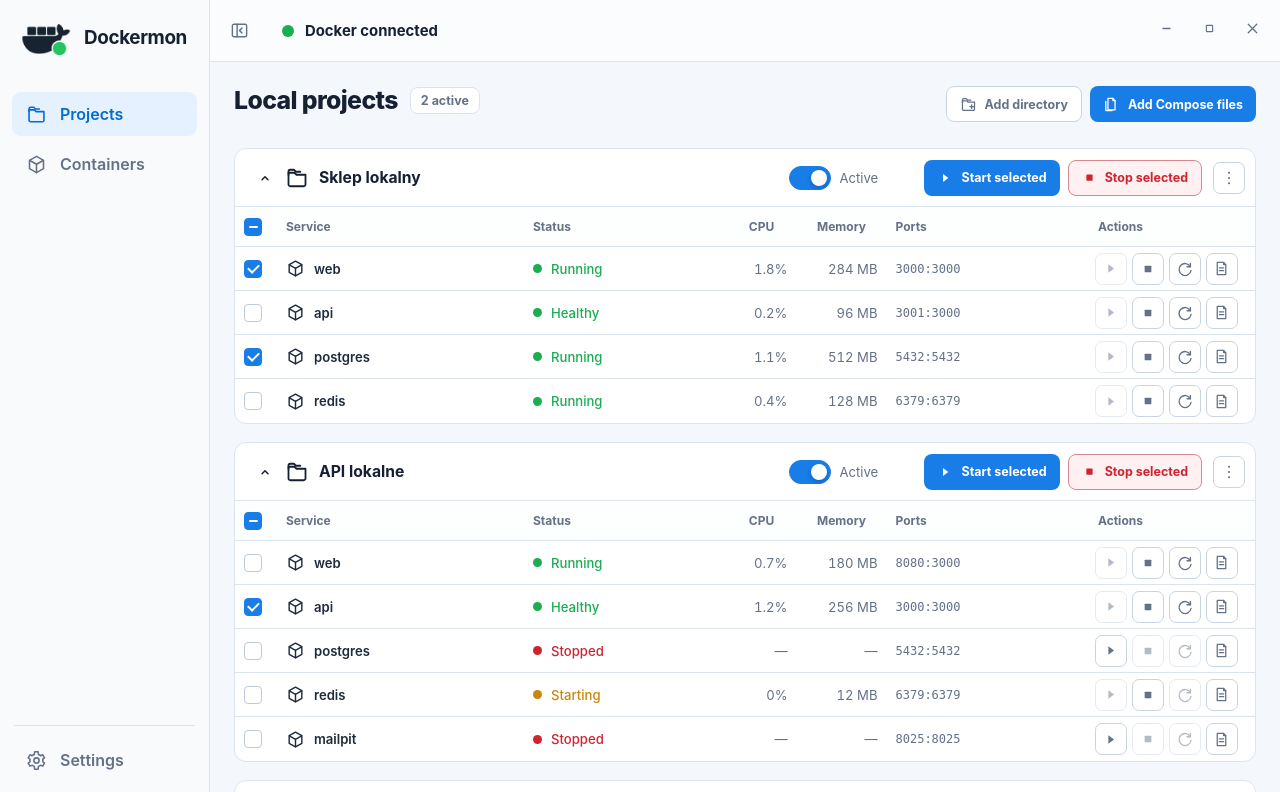
Test: App › keeps lifecycle actions available in other projects while one project is busy
Step 1. Click the 1st button "Stop selected" → {"x": 1135, "y": 178}, box left=1068, top=160, right=1202, bottom=196
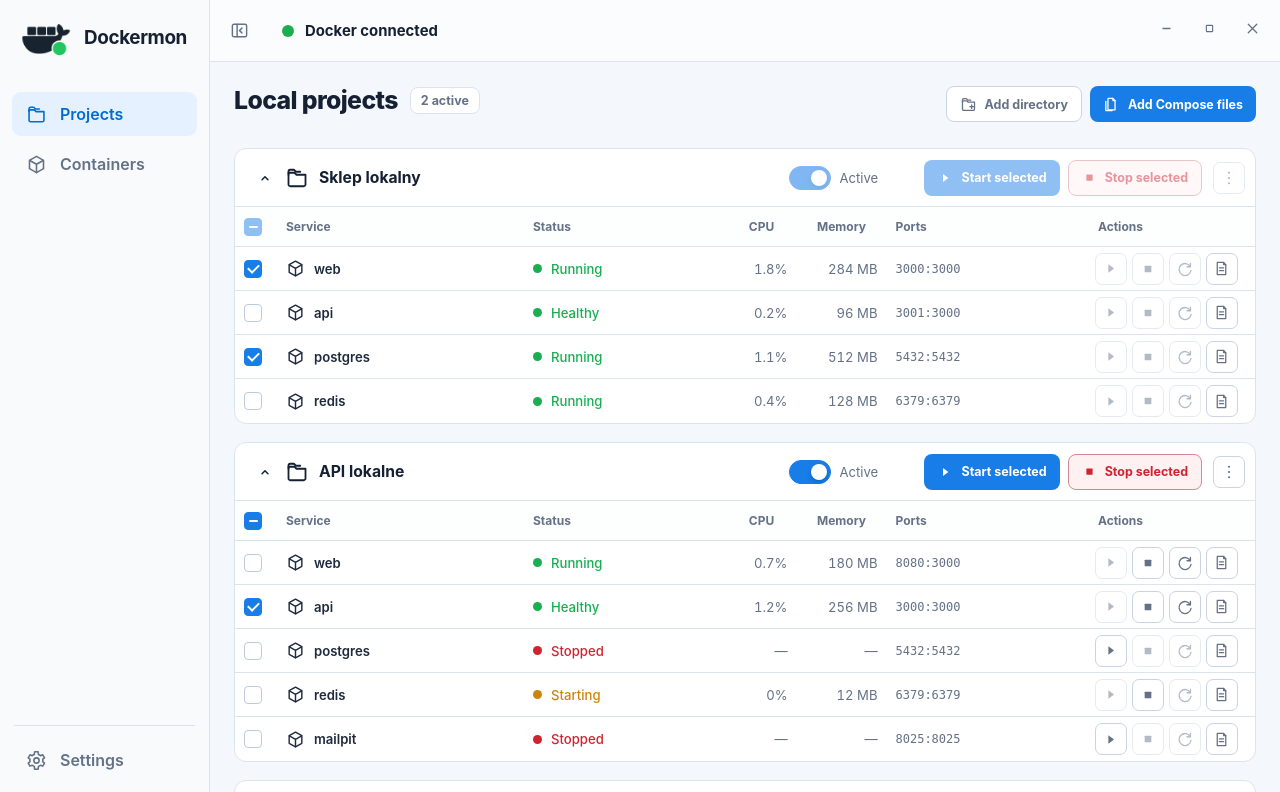
Expected: the 2nd button "Start selected" is enabled, left=924, top=454, right=1060, bottom=490
Now the 1st button "Stop selected" is disabled, box left=1068, top=160, right=1202, bottom=196
